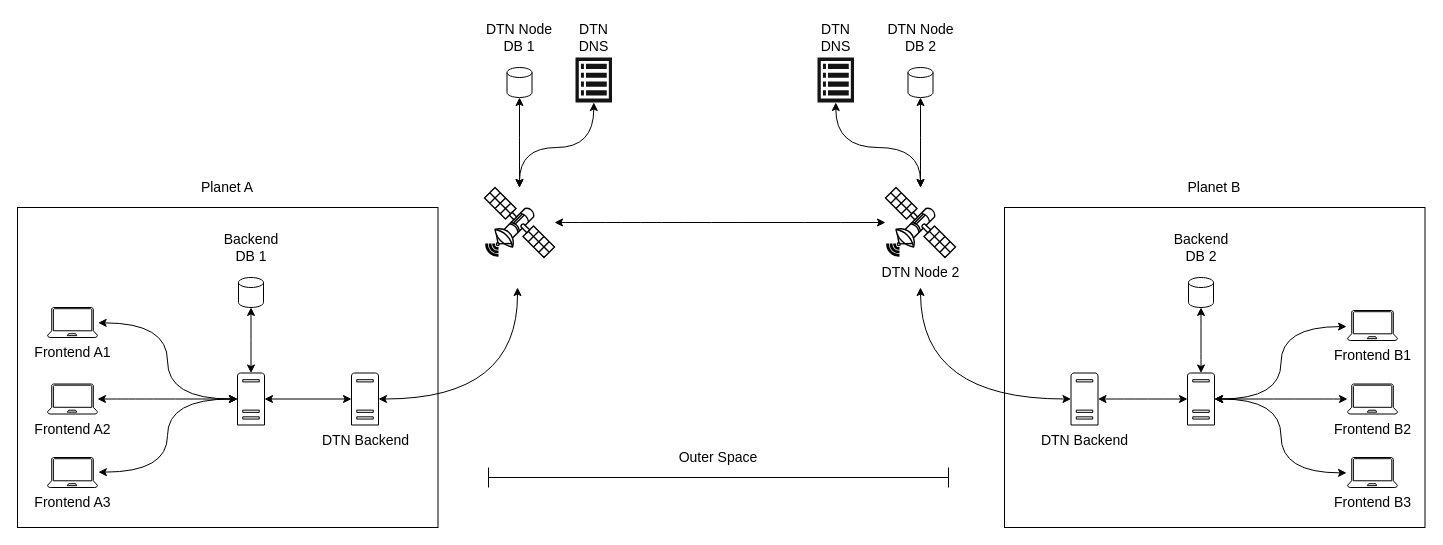
Some shapes in this 1443 by 545 pixel diagram are drawn without their labels. The shapes that lost their labels are listed below. From the top down, each one's box as (x1, y1, x2, y2) in pixels, then its label:
(483, 186, 555, 258): DTN Node 1
(236, 372, 264, 425): Backend 1
(1186, 372, 1214, 425): Backend 2
